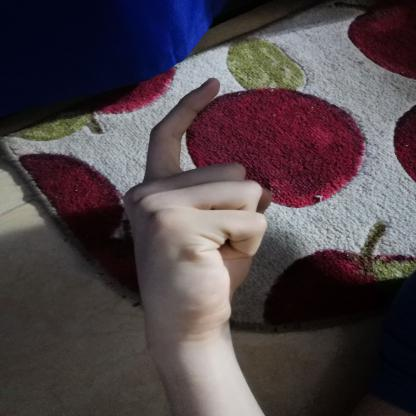RAA: (110, 66, 287, 338)
